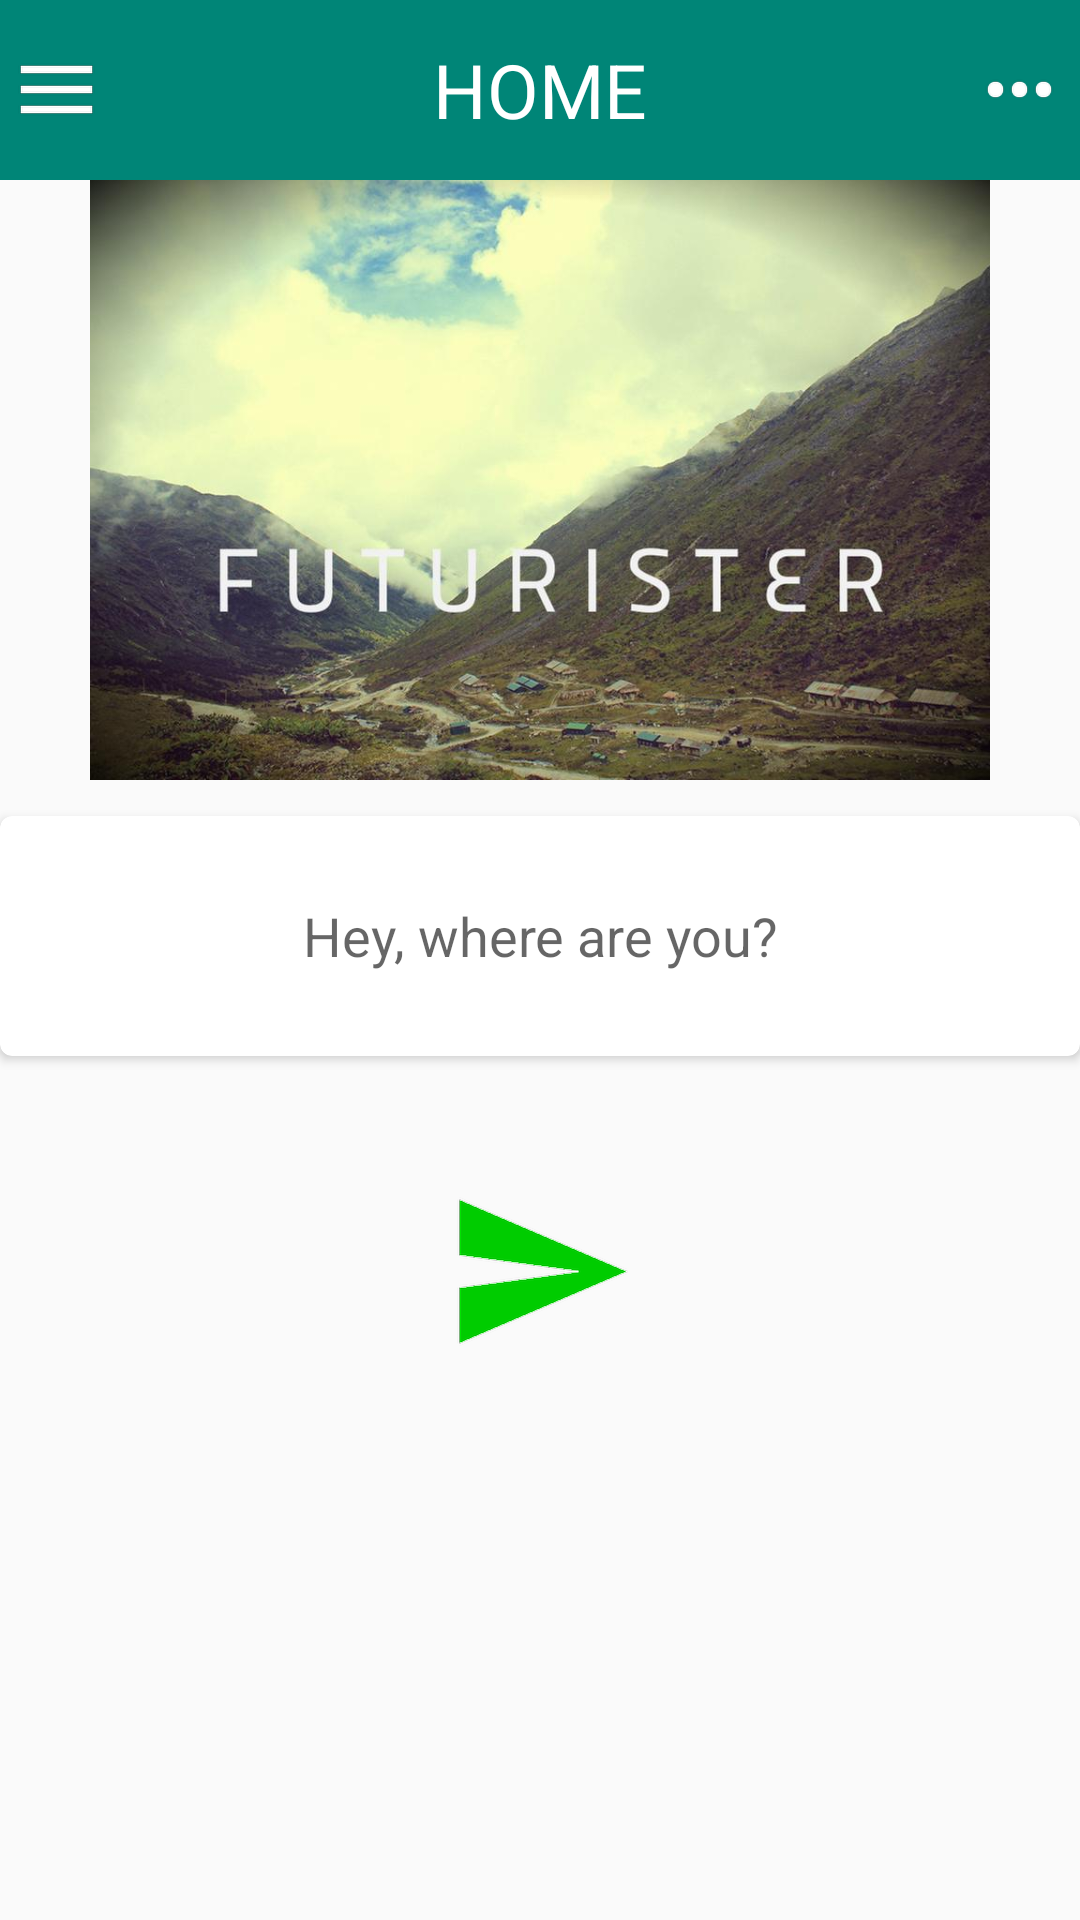

Icon click points for this 1080 x 1920 phone screenshot, format point (x, y):
menu: point (56, 89)
more: point (1019, 89)
